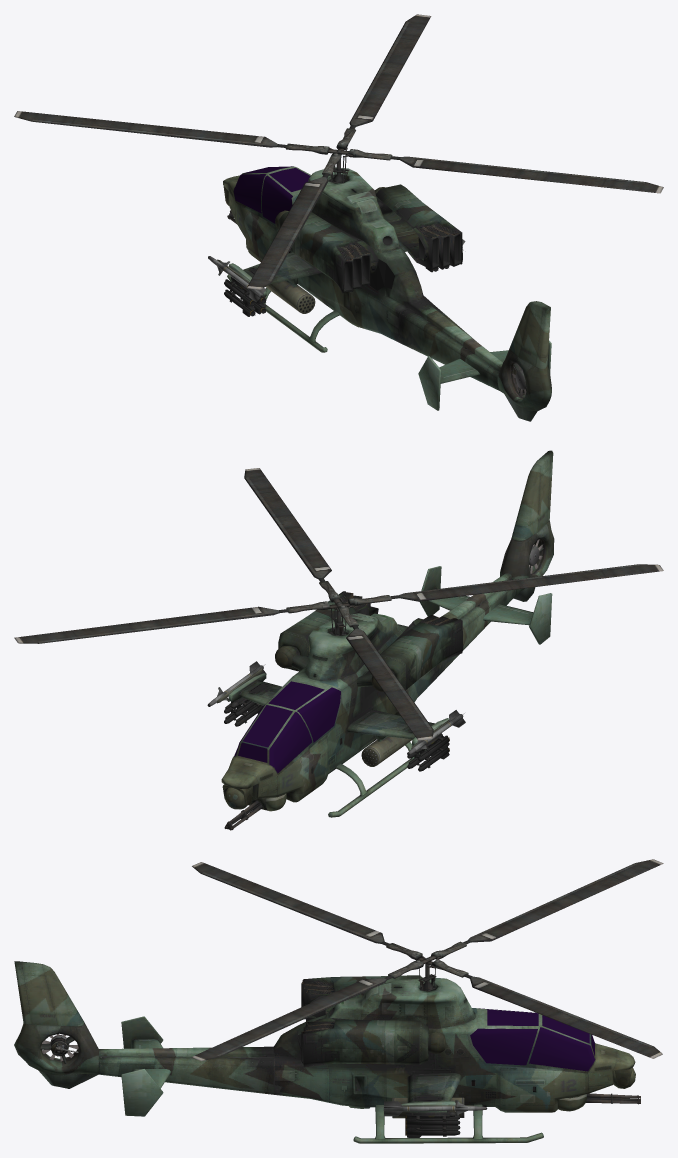
File: ExoWolf.glb
The picture shows the model from 3 angles, top to bottom: view 1: azimuth 30°, elevation 25°; view 2: azimuth 150°, elevation 25°; view 3: azimuth 270°, elevation 25°; orthographic projection. The views are drawn at different scales.
Parts seen in each view (by area): view 1: Chassis, Rotor, Canopy; view 2: Chassis, Rotor, Canopy; view 3: Chassis, Rotor, Canopy, Right AA Missile, Barrels.
Part boxes in pixels (bbox=[...]): Chassis: bbox=[217, 166, 551, 421]; Rotor: bbox=[14, 14, 663, 289]; Canopy: bbox=[233, 166, 310, 223]; Chassis: bbox=[217, 450, 554, 817]; Rotor: bbox=[14, 468, 663, 740]; Canopy: bbox=[234, 681, 340, 773]; Chassis: bbox=[14, 961, 635, 1143]; Rotor: bbox=[191, 859, 663, 1061]; Canopy: bbox=[470, 1008, 595, 1071]; Right AA Missile: bbox=[383, 1100, 487, 1116]; Barrels: bbox=[586, 1093, 640, 1104].
Bounding box in the file's own units: 13.01 × 4.94 × 17.93.
5 materials, 4 textured.
